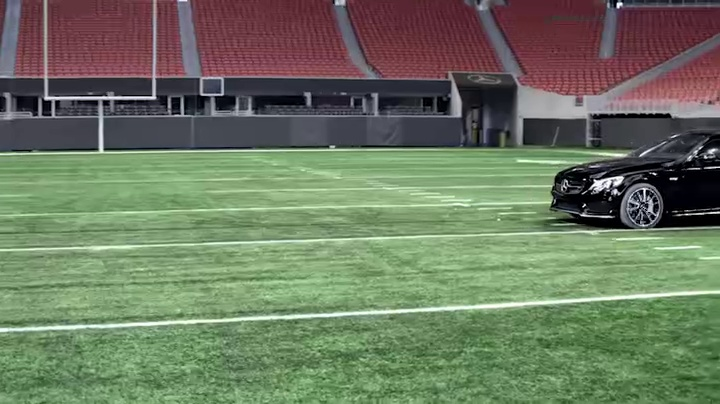amg: (550, 130, 720, 223)
